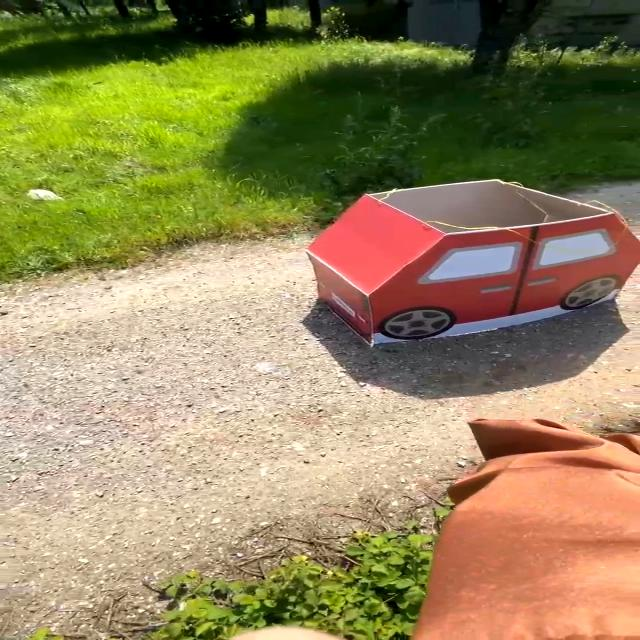red_car: (281, 177, 640, 373)
